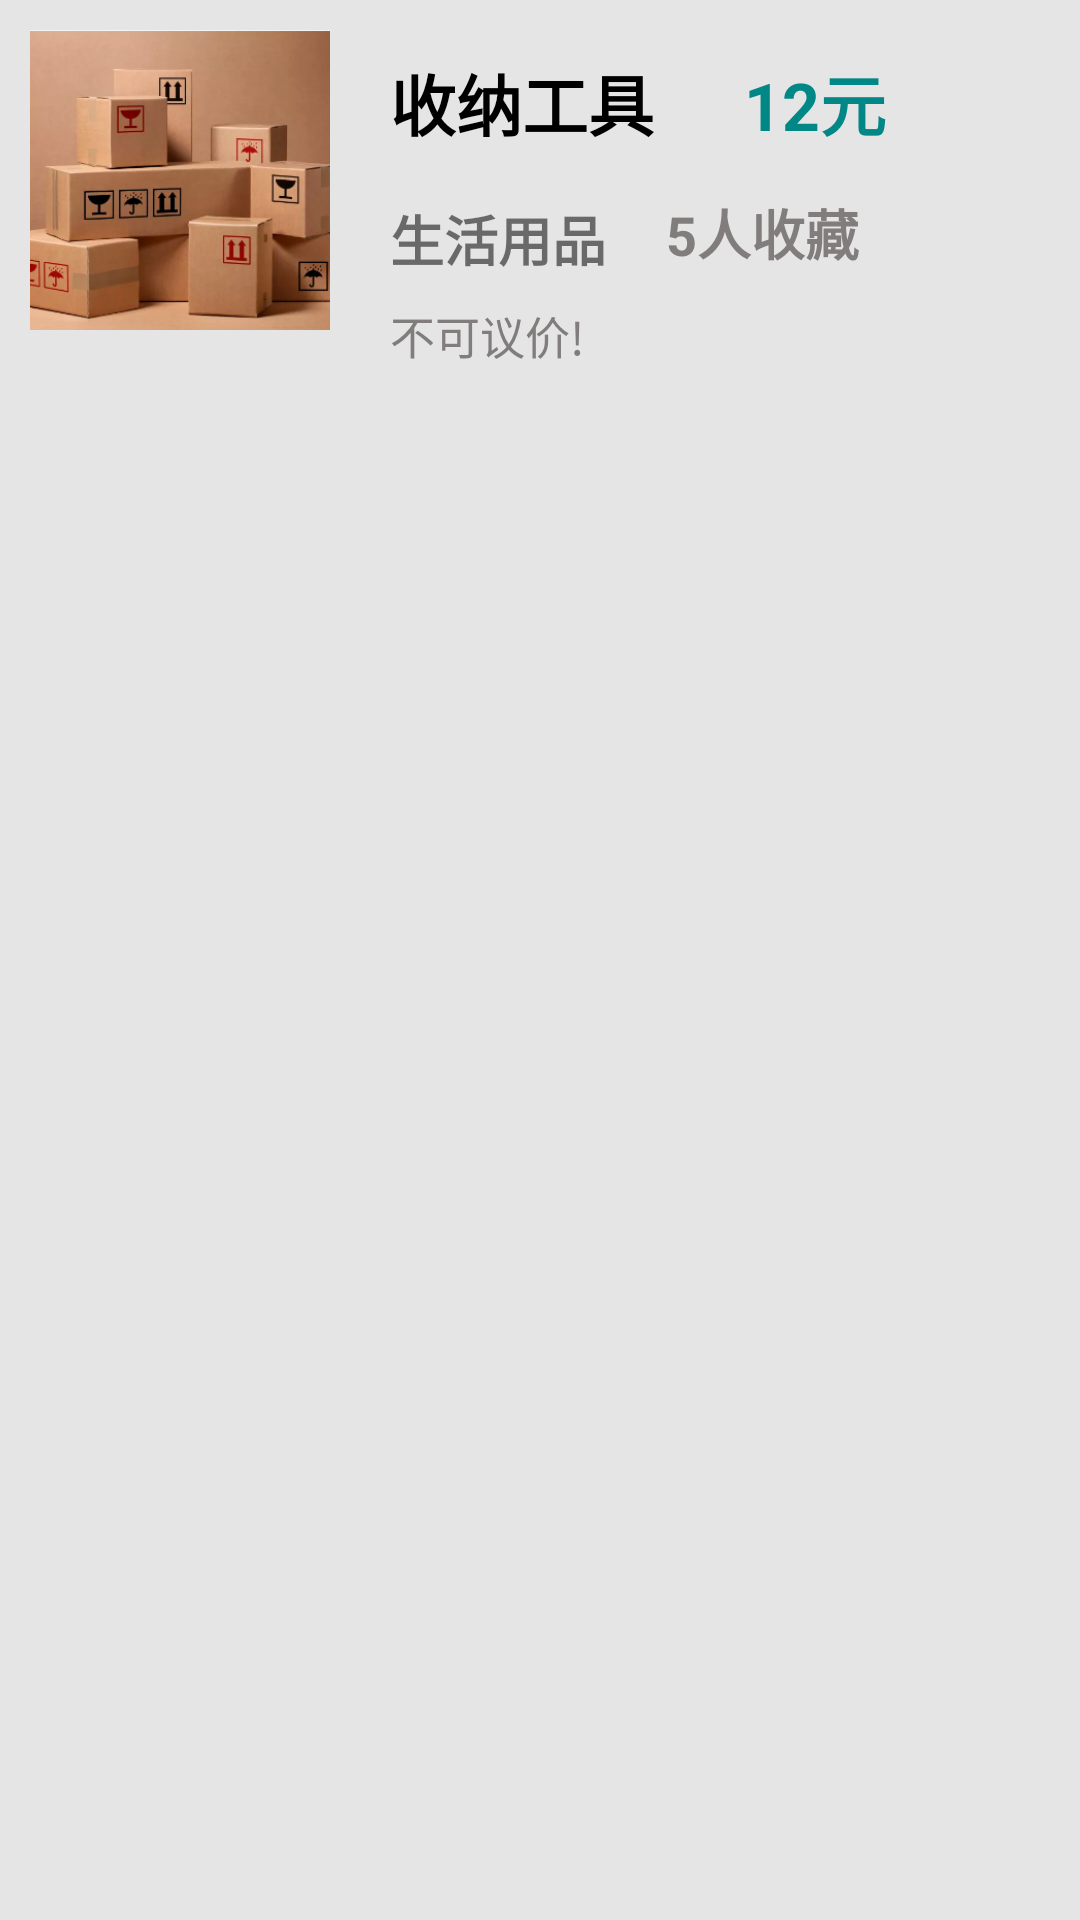

Point at icon controls on the screen. Image size 1080w x 1920h, points as [x,y].
goods: [180,180]
